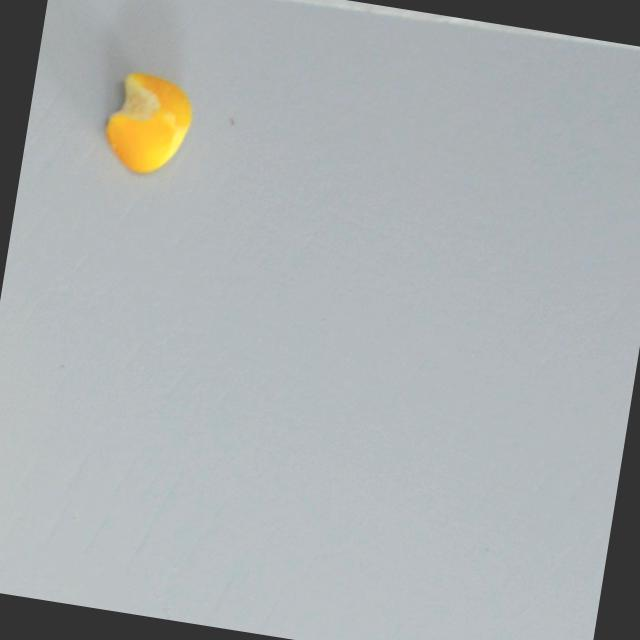no_canjicado: (95, 66, 200, 181)
